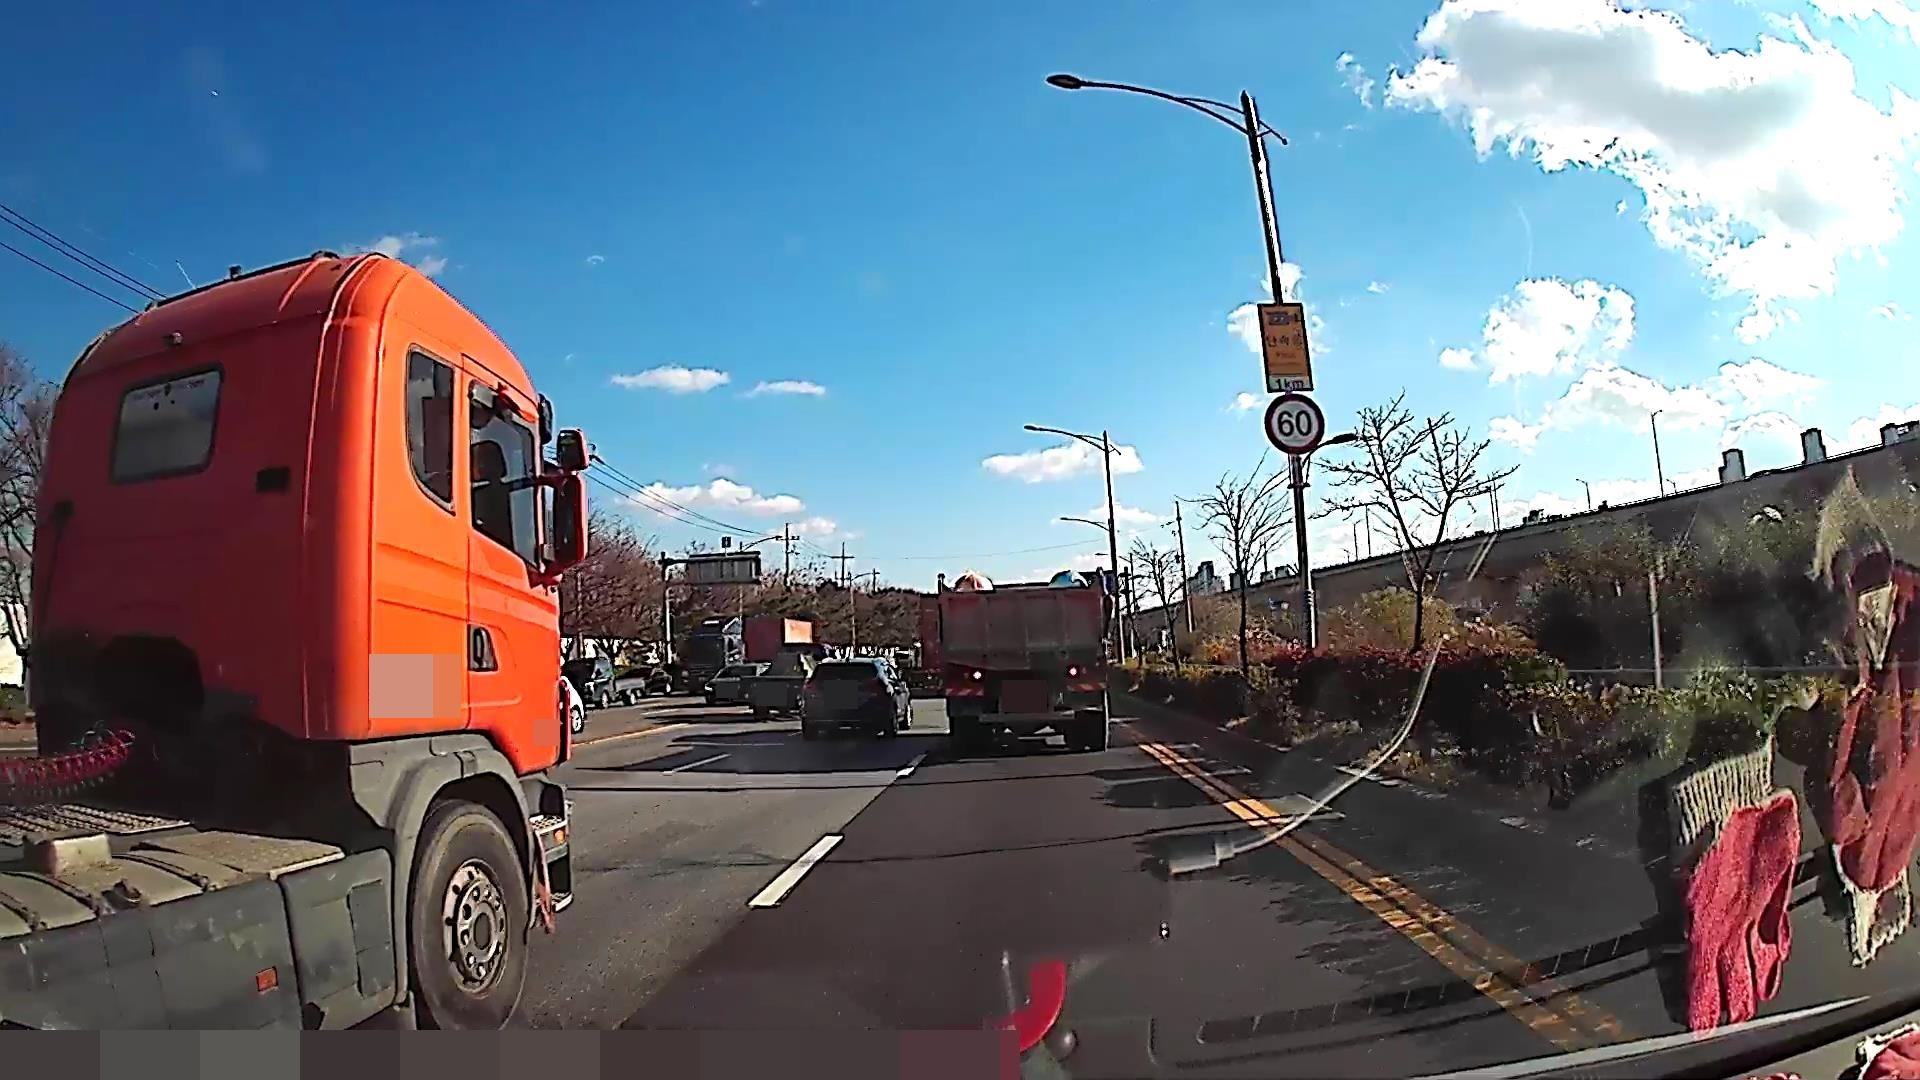불법차량: (934, 566, 1114, 752)
